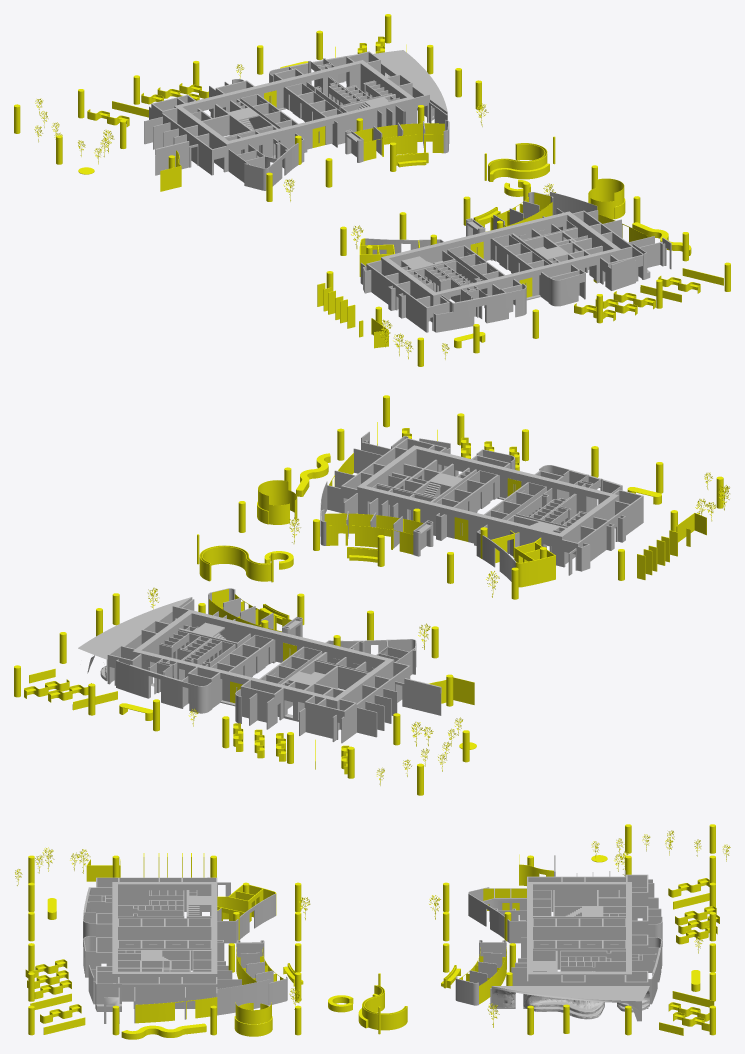
The model's file is sm_hana_building_6f_in.glb.
3 renders of one model, top to bottom at view 1: azimuth 30°, elevation 25°; view 2: azimuth 150°, elevation 25°; view 3: azimuth 270°, elevation 25°, orthographic. The views are drawn at different scales.
Parts seen in each view (by area): view 1: sm_hana_building_6f_in; view 2: sm_hana_building_6f_in; view 3: sm_hana_building_6f_in.
Part boxes in pixels (<box>): sm_hana_building_6f_in: <box>14,14,730,366</box>; sm_hana_building_6f_in: <box>14,395,729,795</box>; sm_hana_building_6f_in: <box>15,824,730,1039</box>.
Bounding box in the file's own units: 60.48 × 4.61 × 96.83.
8 materials, 6 textured.
